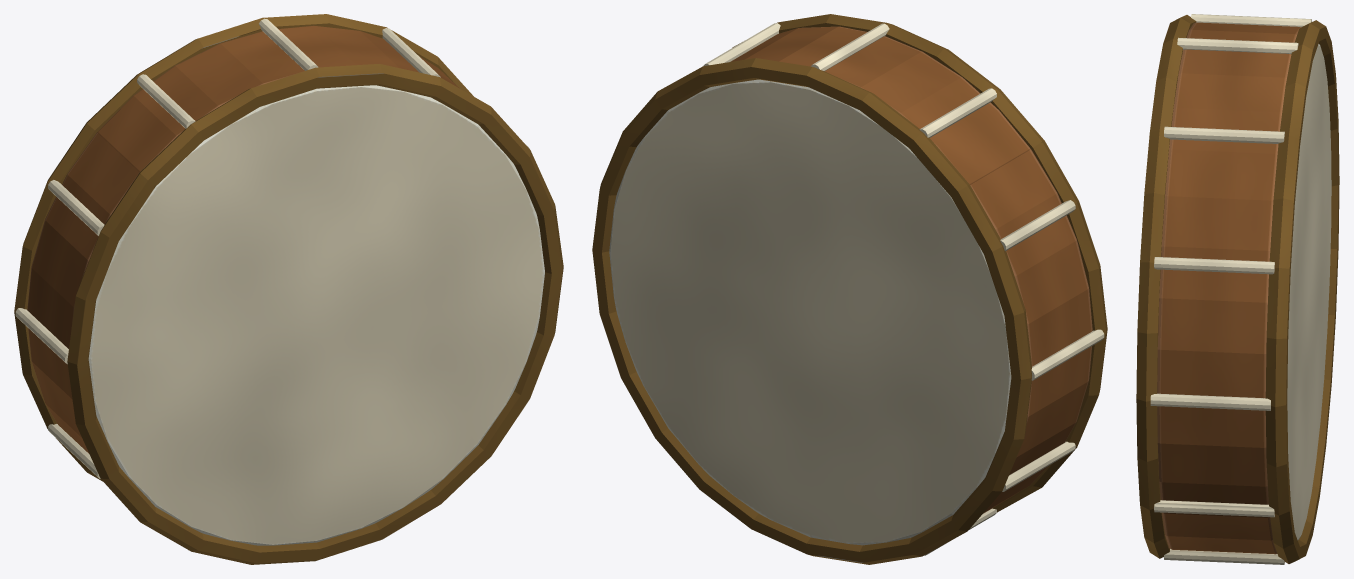
The model's file is 25_Frame_Drum.fbx.
3 views of the same model, side by side, from view 1: azimuth 30°, elevation 25°; view 2: azimuth 150°, elevation 25°; view 3: azimuth 270°, elevation 25° (orthographic).
Parts seen in each view (by area): view 1: 25_Frame_Drum; view 2: 25_Frame_Drum; view 3: 25_Frame_Drum.
Boxes of the visible parts, bbox=[...] form: 25_Frame_Drum: bbox=[14, 14, 563, 564]; 25_Frame_Drum: bbox=[592, 14, 1107, 564]; 25_Frame_Drum: bbox=[1136, 14, 1339, 564].
Size of the model in its own units: 60.95 by 60 by 22.21.
1 material, 1 textured.
